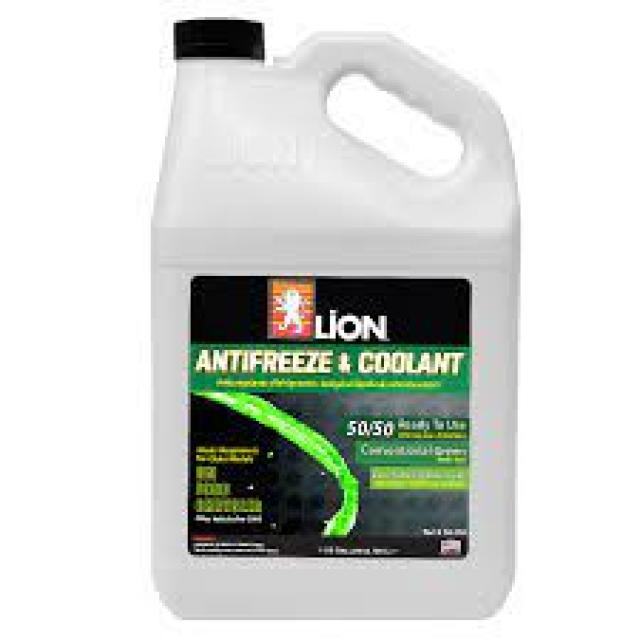coolant: (147, 8, 520, 628)
